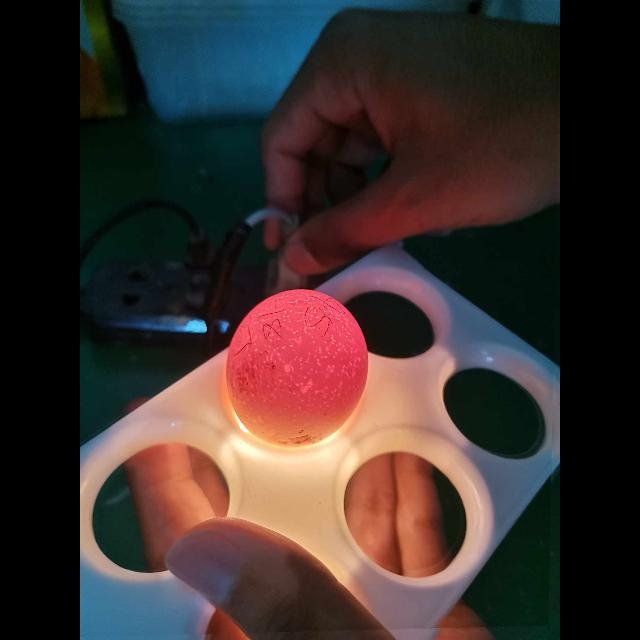Infertile: (231, 282, 373, 448)
